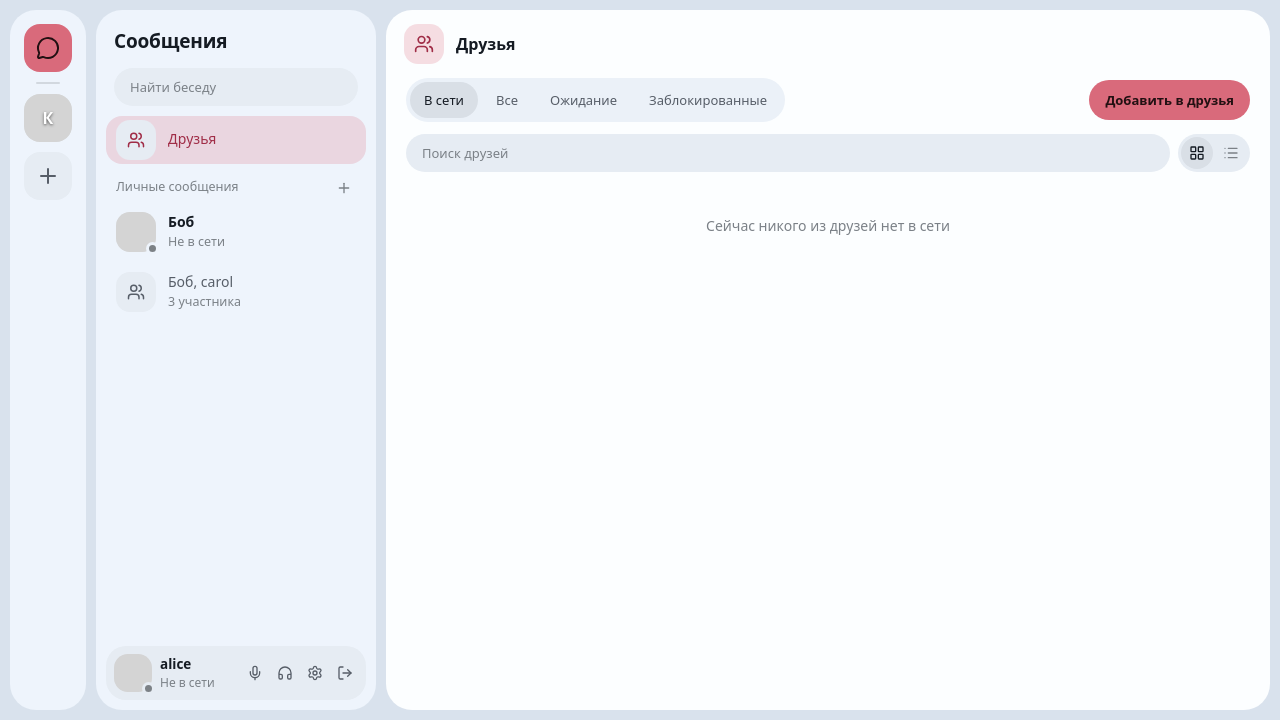
it: server rail › explains an unusable invite link
Click the button named "Добавить сервер" at {"x": 48, "y": 176}, box [24,152,72,200]
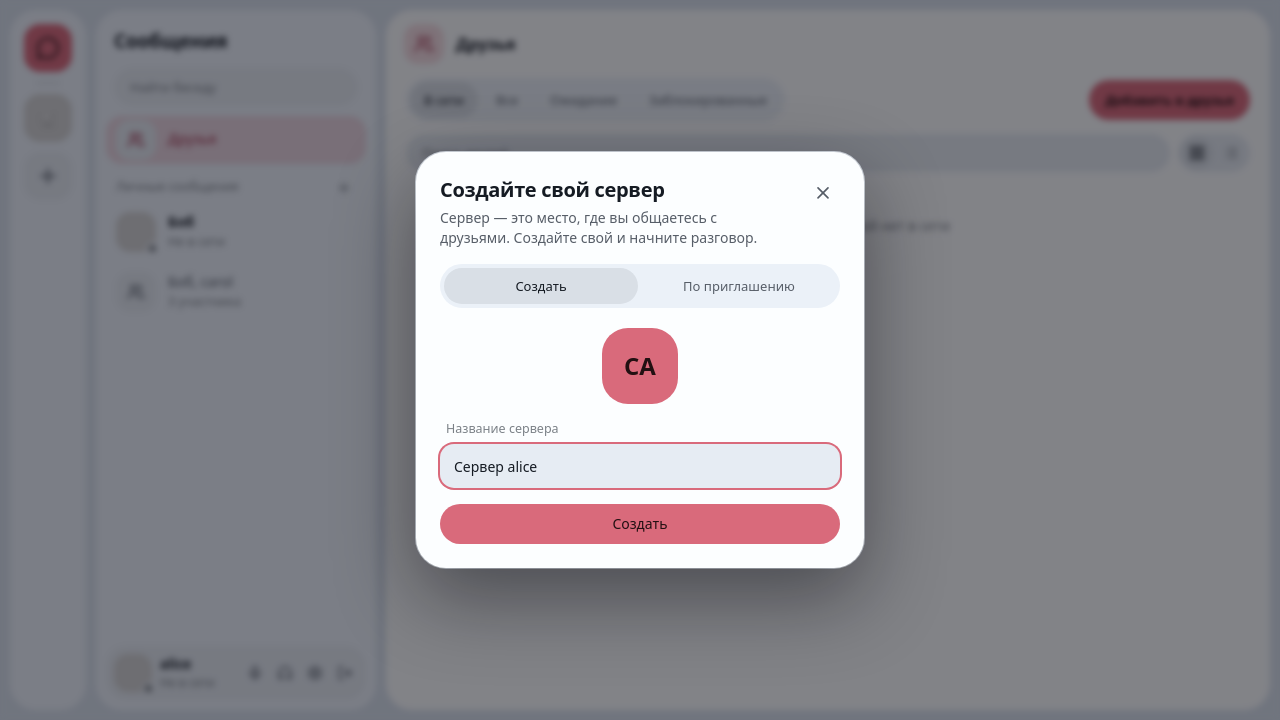
Click the tab "По приглашению" at {"x": 739, "y": 286}, box [642,268,836,304]
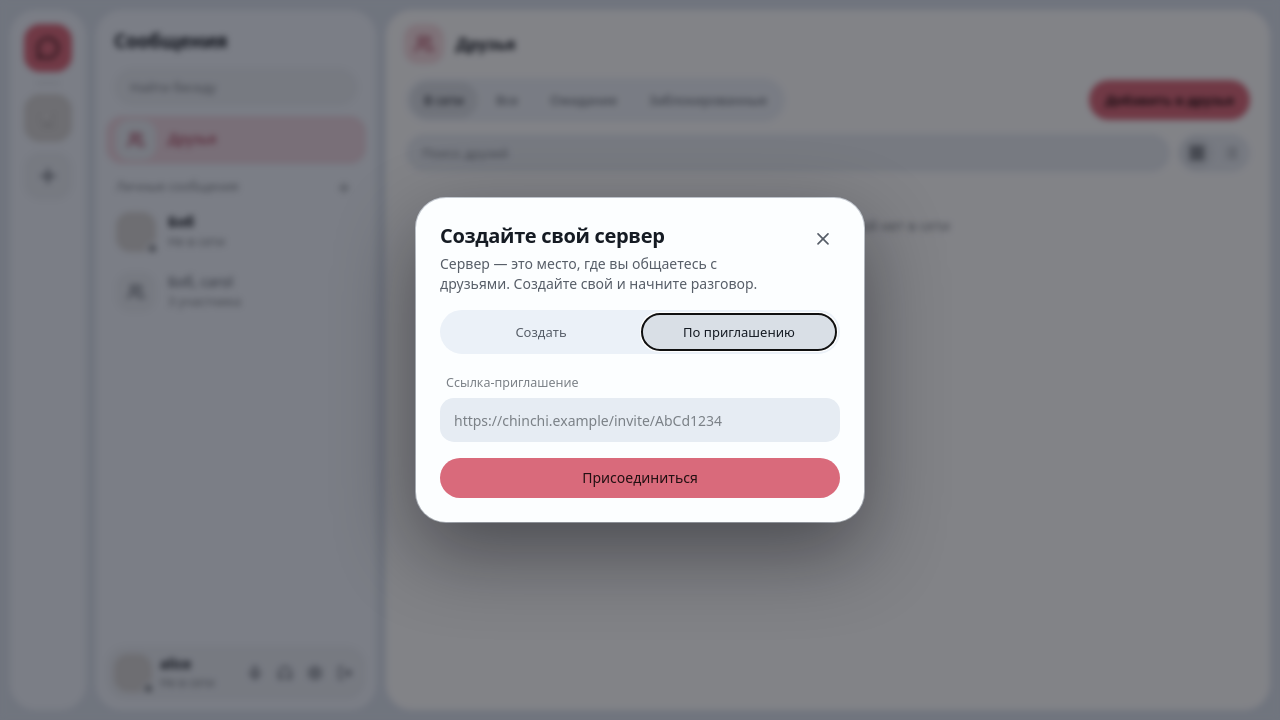
Type "not a link!" into the field labelled "Ссылка-приглашение" at {"x": 640, "y": 420}, box [440,398,840,442]
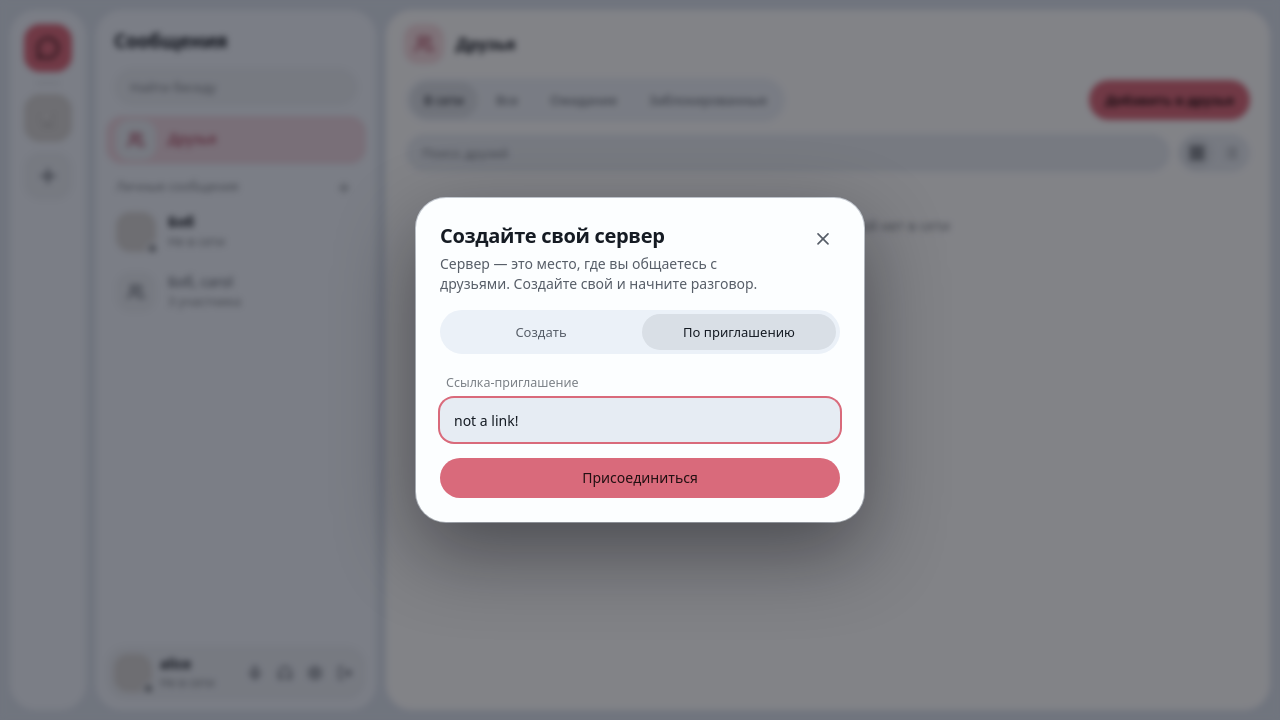
Click the button "Присоединиться" at {"x": 640, "y": 478}, box [440,458,840,498]
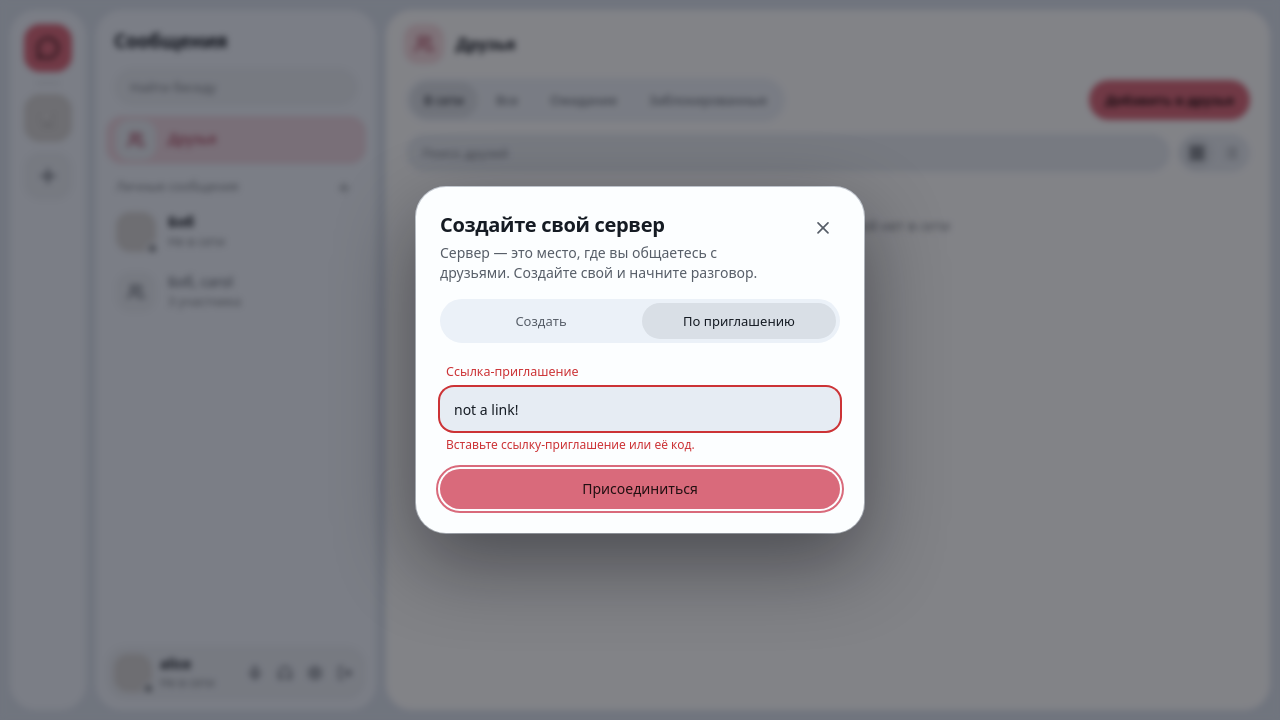
Expected: the text "Вставьте ссылку-приглашение или её код." is shown, [446,436,695,453]
